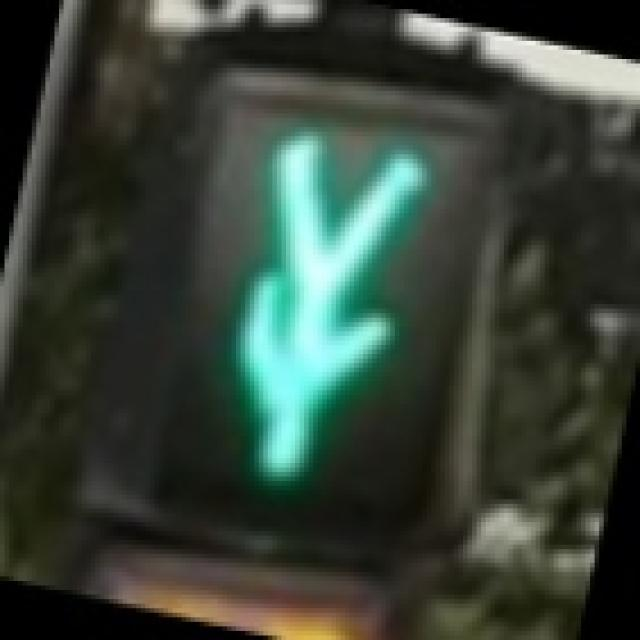geen-crossing: (104, 64, 522, 554)
